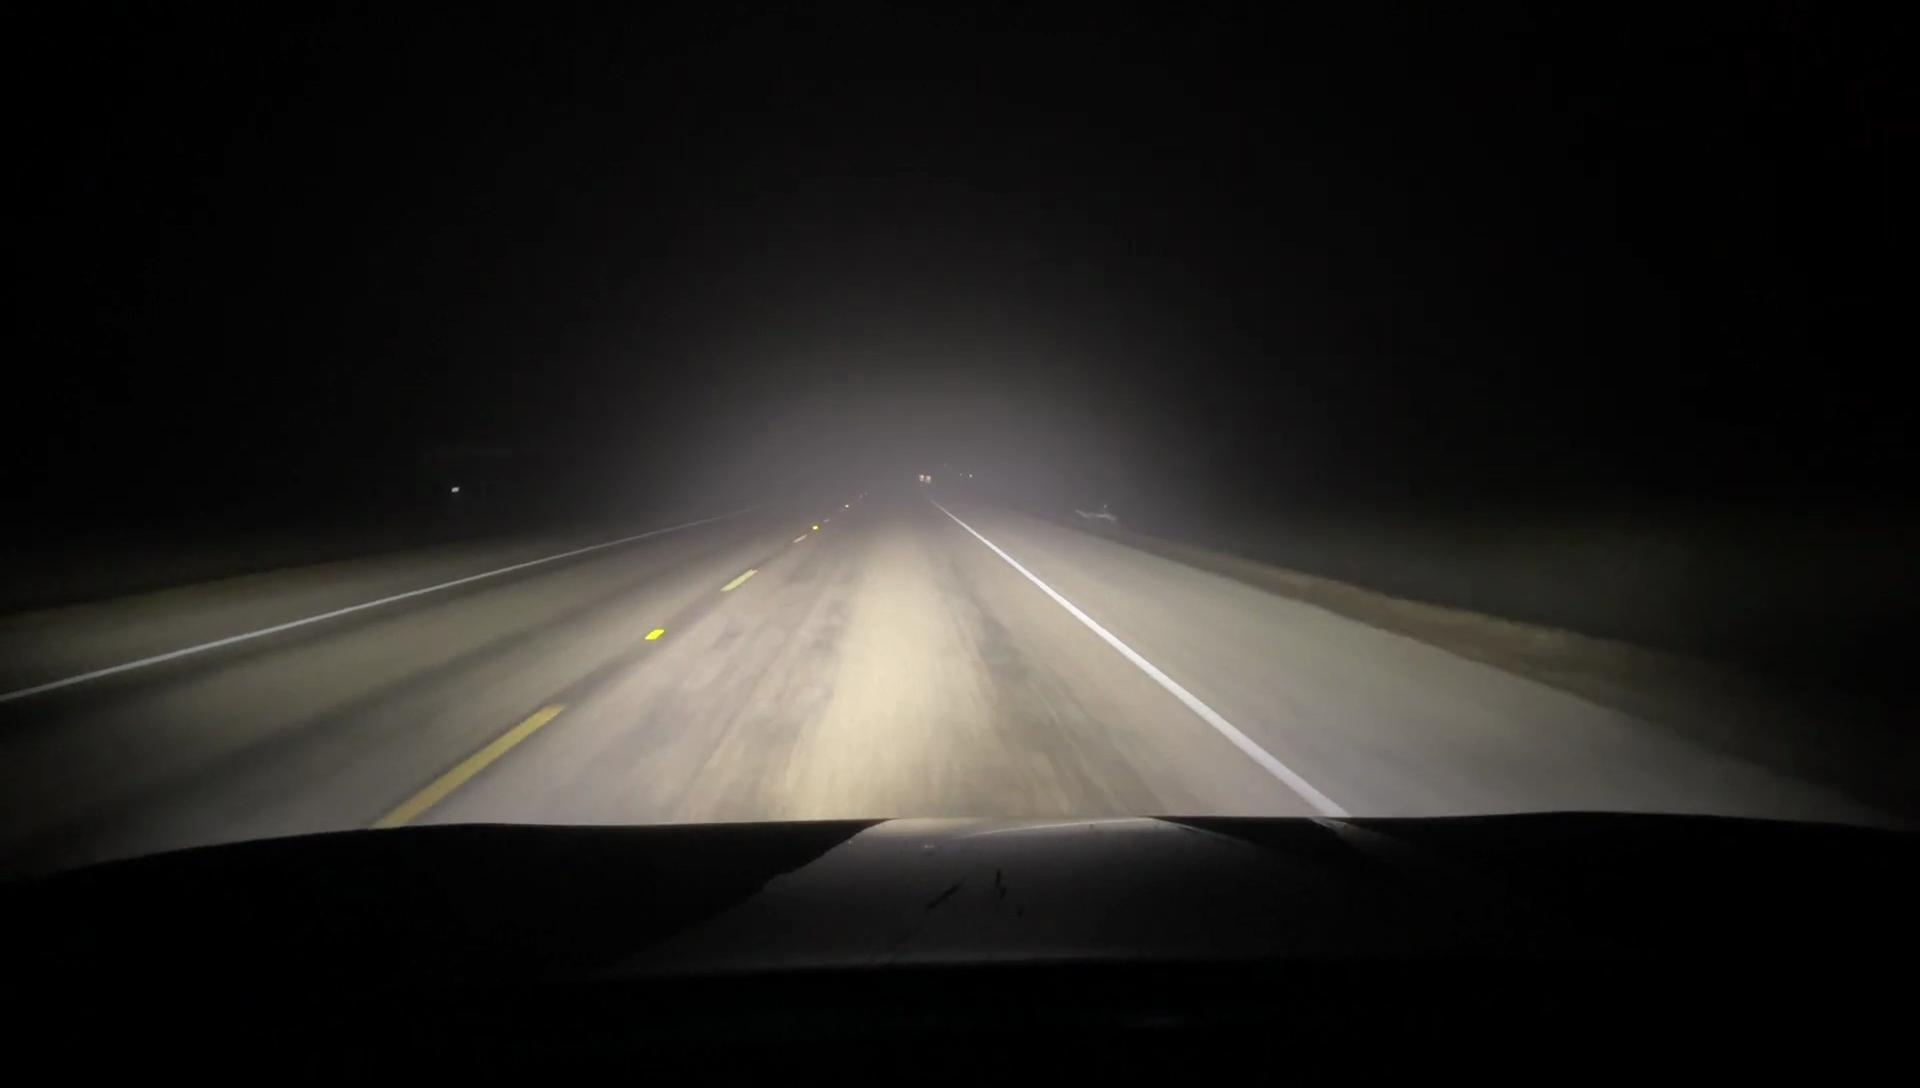road-lanes: (421, 501, 1333, 824)
